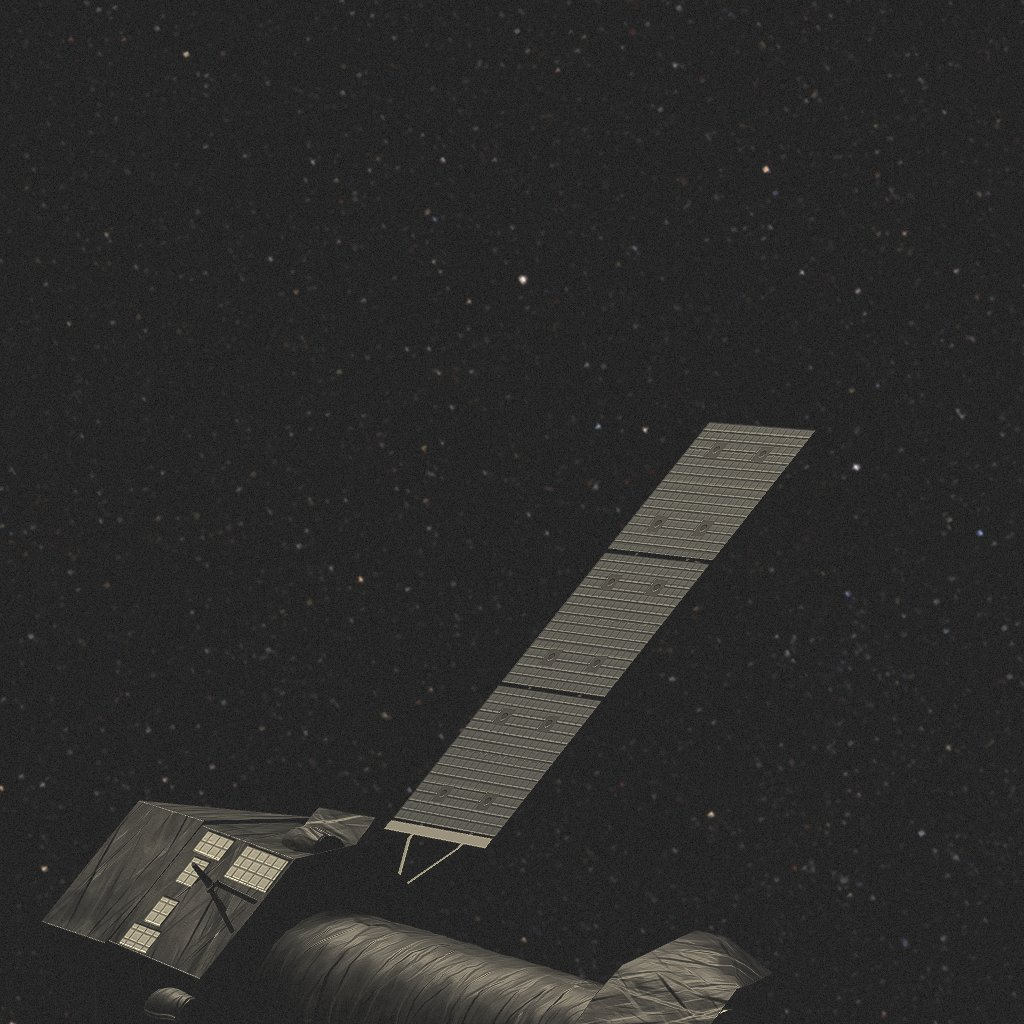xmm_newton: (49, 437, 845, 1008)
